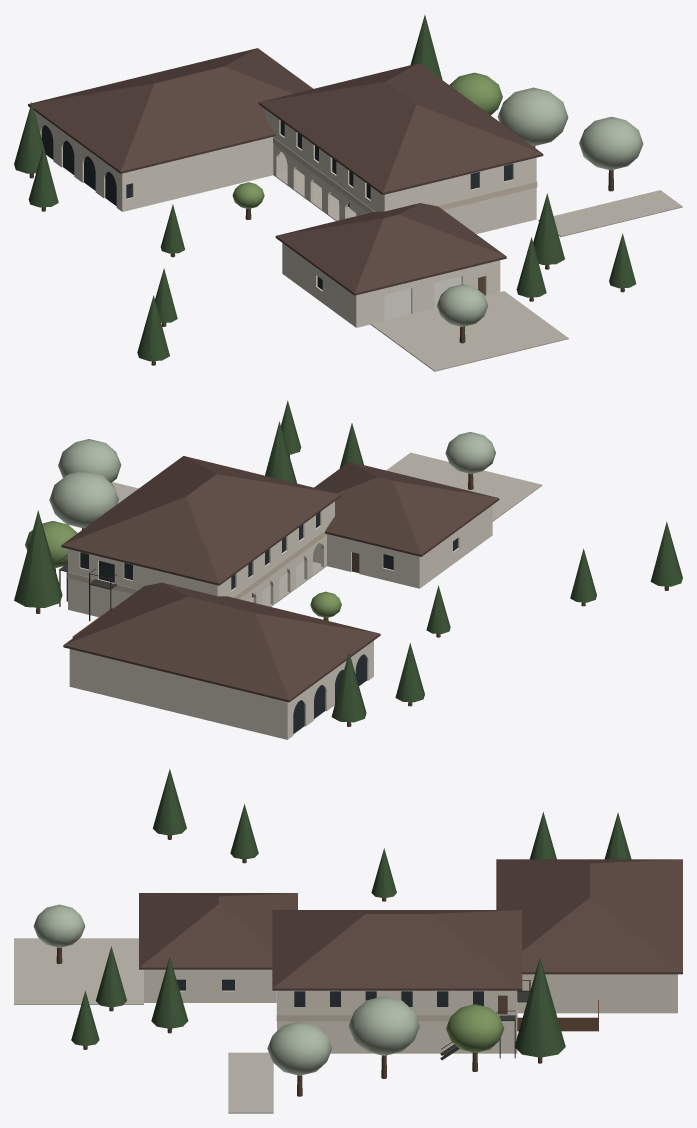
Rendered from 7824-zero-rd.glb.
3 views of the same model, one above another, from view 1: azimuth 30°, elevation 25°; view 2: azimuth 150°, elevation 25°; view 3: azimuth 270°, elevation 25° (orthographic). The views are drawn at different scales.
Visible parts, largest first — view 1: roof (×3), wall (×6), conifer (×9), driveway_apron, russian_olive (×3), east_slab, deciduous (×2), floor_band (×2), loggia_floor, garage; view 2: roof (×3), wall (×6), conifer (×9), russian_olive (×3), driveway_apron, deciduous (×2), loggia_floor, floor_band; view 3: roof (×3), wall (×3), conifer (×9), russian_olive (×3), driveway_apron, east_slab, deciduous, floor_band, fence.
Boxes of the visible parts, left/top/right/bottom form: roof (×3): left=28, top=48, right=543, bottom=295; wall (×6): left=36, top=110, right=536, bottom=327; conifer (×9): left=14, top=15, right=636, bottom=361; driveway_apron: left=370, top=291, right=568, bottom=371; russian_olive (×3): left=436, top=87, right=643, bottom=326; east_slab: left=538, top=190, right=682, bottom=236; deciduous (×2): left=232, top=72, right=502, bottom=208; floor_band (×2): left=273, top=137, right=537, bottom=212; loggia_floor: left=273, top=169, right=356, bottom=220; garage: left=384, top=288, right=411, bottom=320; roof (×3): left=61, top=456, right=499, bottom=702; wall (×6): left=68, top=502, right=490, bottom=739; conifer (×9): left=14, top=400, right=682, bottom=722; russian_olive (×3): left=49, top=432, right=495, bottom=528; driveway_apron: left=386, top=452, right=542, bottom=521; deciduous (×2): left=25, top=521, right=341, bottom=617; loggia_floor: left=248, top=561, right=326, bottom=606; floor_band: left=233, top=530, right=327, bottom=598; roof (×3): left=139, top=859, right=682, bottom=990; wall (×3): left=147, top=969, right=674, bottom=1053; conifer (×9): left=71, top=769, right=631, bottom=1057; russian_olive (×3): left=33, top=904, right=419, bottom=1075; driveway_apron: left=14, top=938, right=143, bottom=1004; east_slab: left=228, top=1052, right=273, bottom=1113; deciduous: left=446, top=1004, right=504, bottom=1052; floor_band: left=277, top=1015, right=517, bottom=1021; fence: left=517, top=1017, right=598, bottom=1031.
Size of what is drawn, in the model's own units: 62.57 by 11.21 by 62.79.
